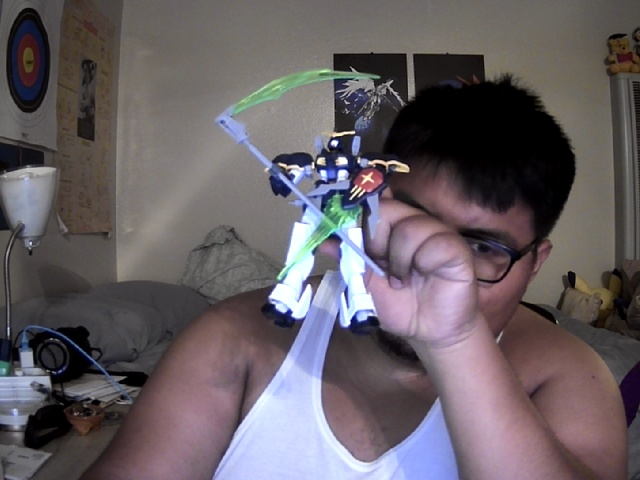Deathsythe: (216, 68, 409, 332)
